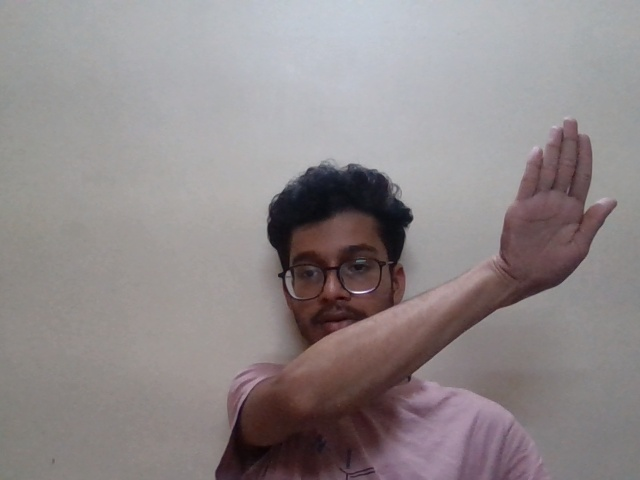hello: (501, 108, 630, 315)
